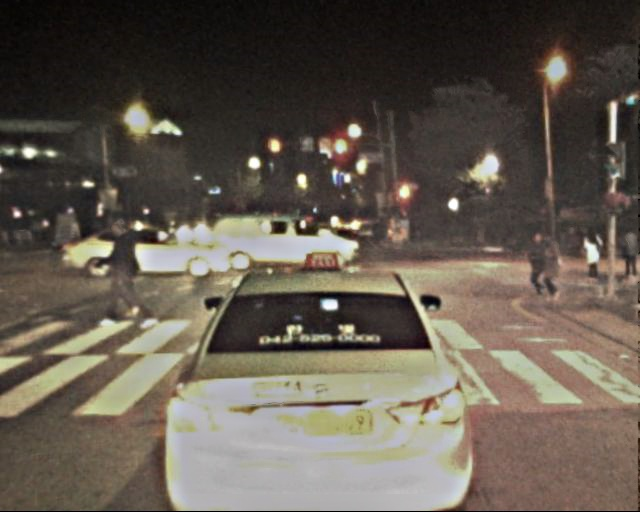person: (101, 215, 148, 330), (526, 232, 553, 297), (538, 236, 564, 299), (581, 226, 605, 284), (617, 227, 640, 283)
